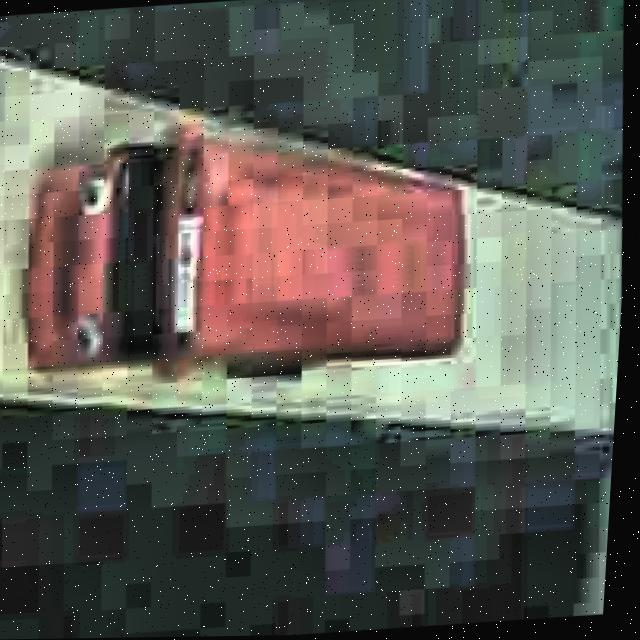bus: (6, 99, 484, 401)
